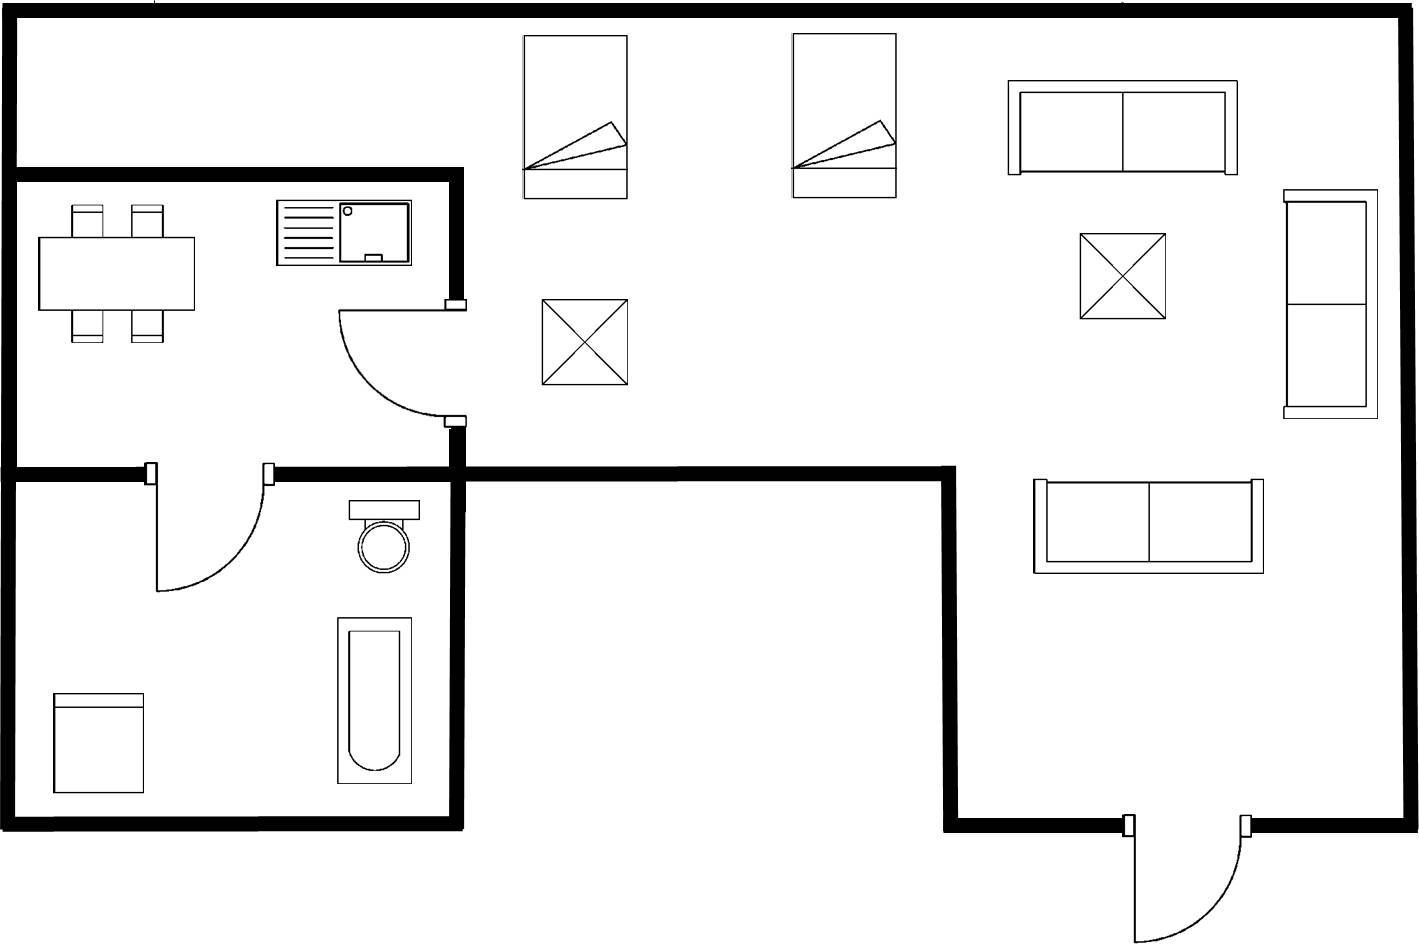bed: (515, 29, 635, 204), (784, 28, 902, 204)
coffee_table: (537, 294, 632, 391), (1075, 230, 1172, 323)
dining_table: (34, 199, 202, 351)
large_sink: (343, 495, 427, 579)
large_sofa: (1000, 74, 1244, 182), (1277, 183, 1383, 426), (1027, 473, 1268, 579)
sink: (268, 194, 419, 273)
small_sofa: (48, 688, 150, 799)
tub: (331, 612, 417, 788)
